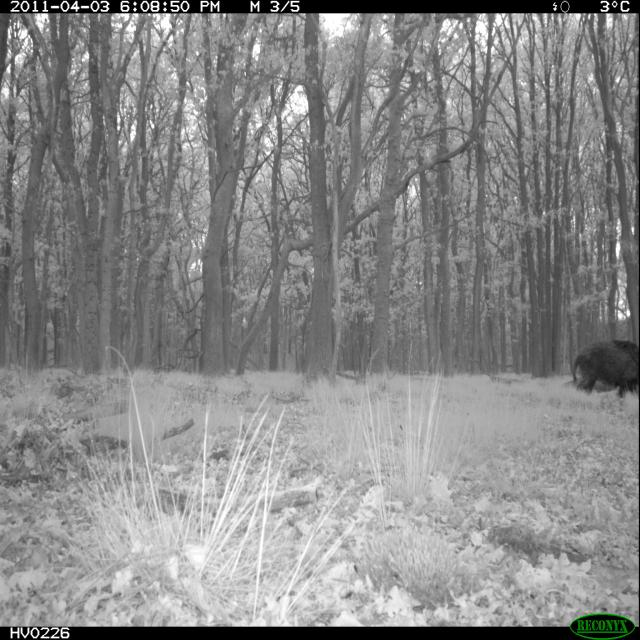boar: (568, 305, 638, 428)
